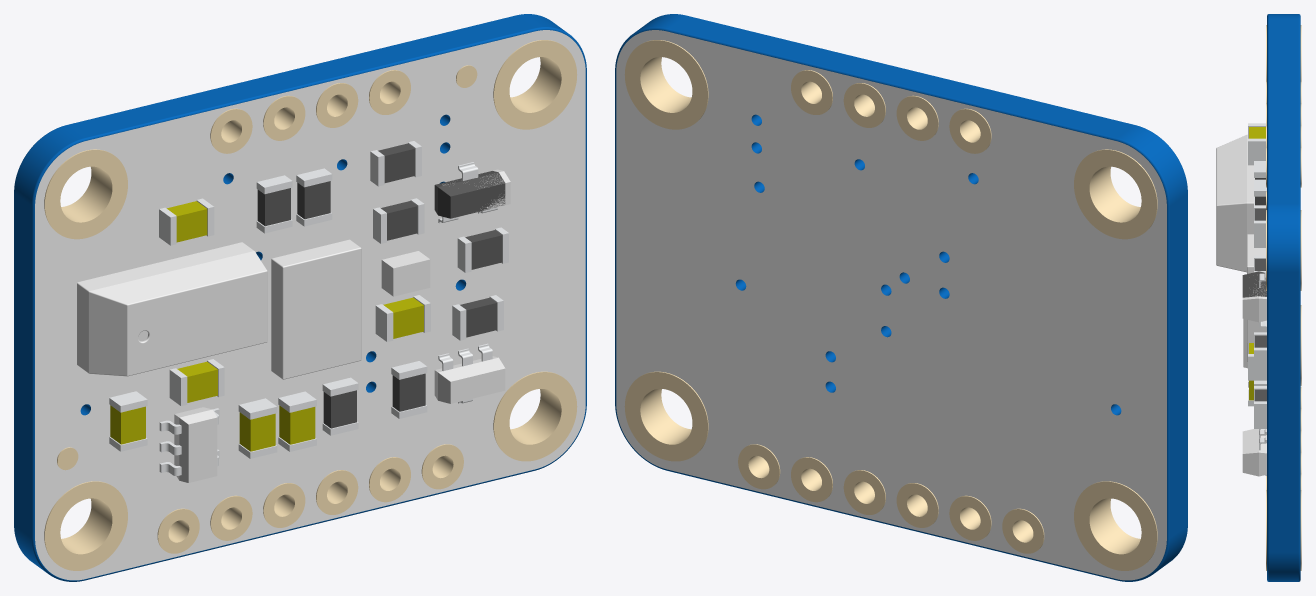
File: imu_bno055.gltf
3 renders of one model, left to right at view 1: azimuth 30°, elevation 25°; view 2: azimuth 150°, elevation 25°; view 3: azimuth 270°, elevation 25°, orthographic. The views are drawn at different scales.
Visible parts, largest first — view 1: Adafruit_BNO055_AP214 (×34); view 2: Adafruit_BNO055_AP214 (×15); view 3: Adafruit_BNO055_AP214 (×21).
Part boxes in pixels (x1,y1,x2,y2): Adafruit_BNO055_AP214 (×34): (14, 14, 586, 581); Adafruit_BNO055_AP214 (×15): (615, 14, 1187, 581); Adafruit_BNO055_AP214 (×21): (1216, 14, 1301, 581).
Bounding box in the file's own units: 0.0267 × 0.0203 × 0.0042.
